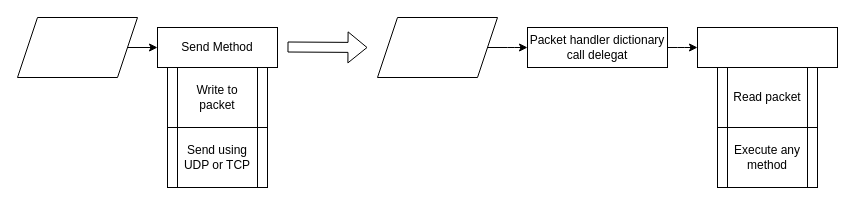
Some shapes in this 855 by 205 pixel diagram are drawn without their labels. The centre of each missing label's shape, as x and y in pixels:
"Any method" goes at point (77, 47).
"Handler Method" goes at point (767, 47).
"Receive callback" goes at point (437, 47).
